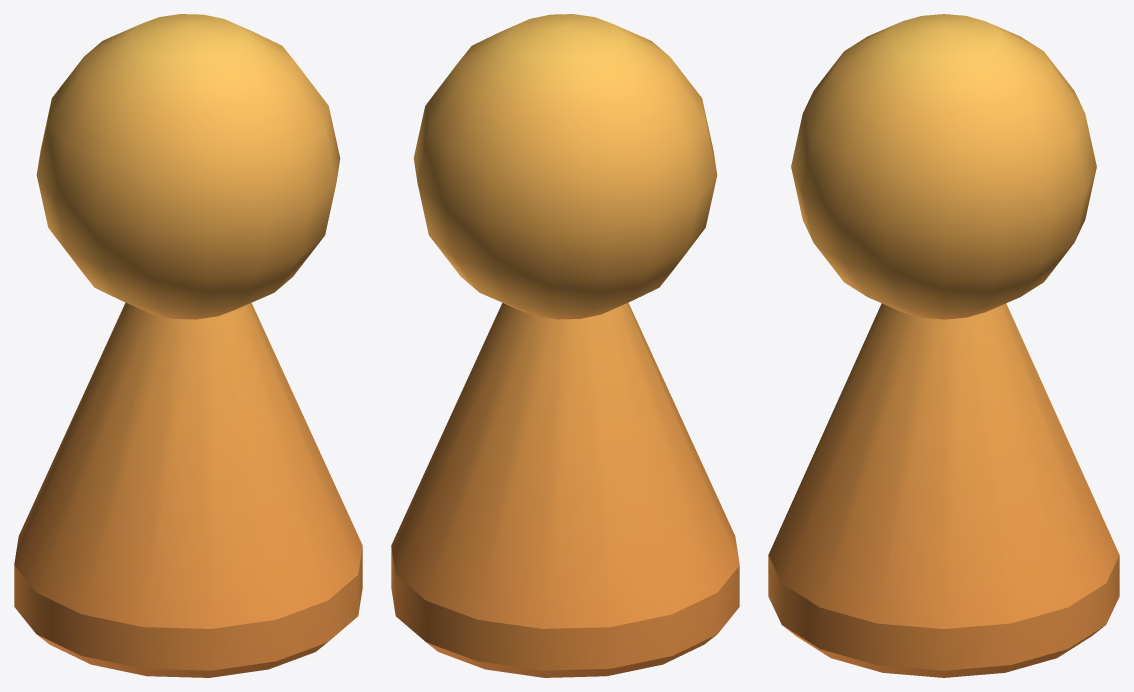
The model's file is pawn-a-yellow.glb.
3 views of the same model, side by side, from view 1: azimuth 30°, elevation 25°; view 2: azimuth 150°, elevation 25°; view 3: azimuth 270°, elevation 25° (orthographic).
Visible parts, largest first — view 1: pawn_A_yellow; view 2: pawn_A_yellow; view 3: pawn_A_yellow.
Boxes of the visible parts, x1,y1,x2,y2 form: pawn_A_yellow: (14,14,362,677); pawn_A_yellow: (391,14,739,677); pawn_A_yellow: (768,14,1119,677).
Size of the model in its own units: 0.5 by 0.9146 by 0.5.
1 material, 1 textured.
